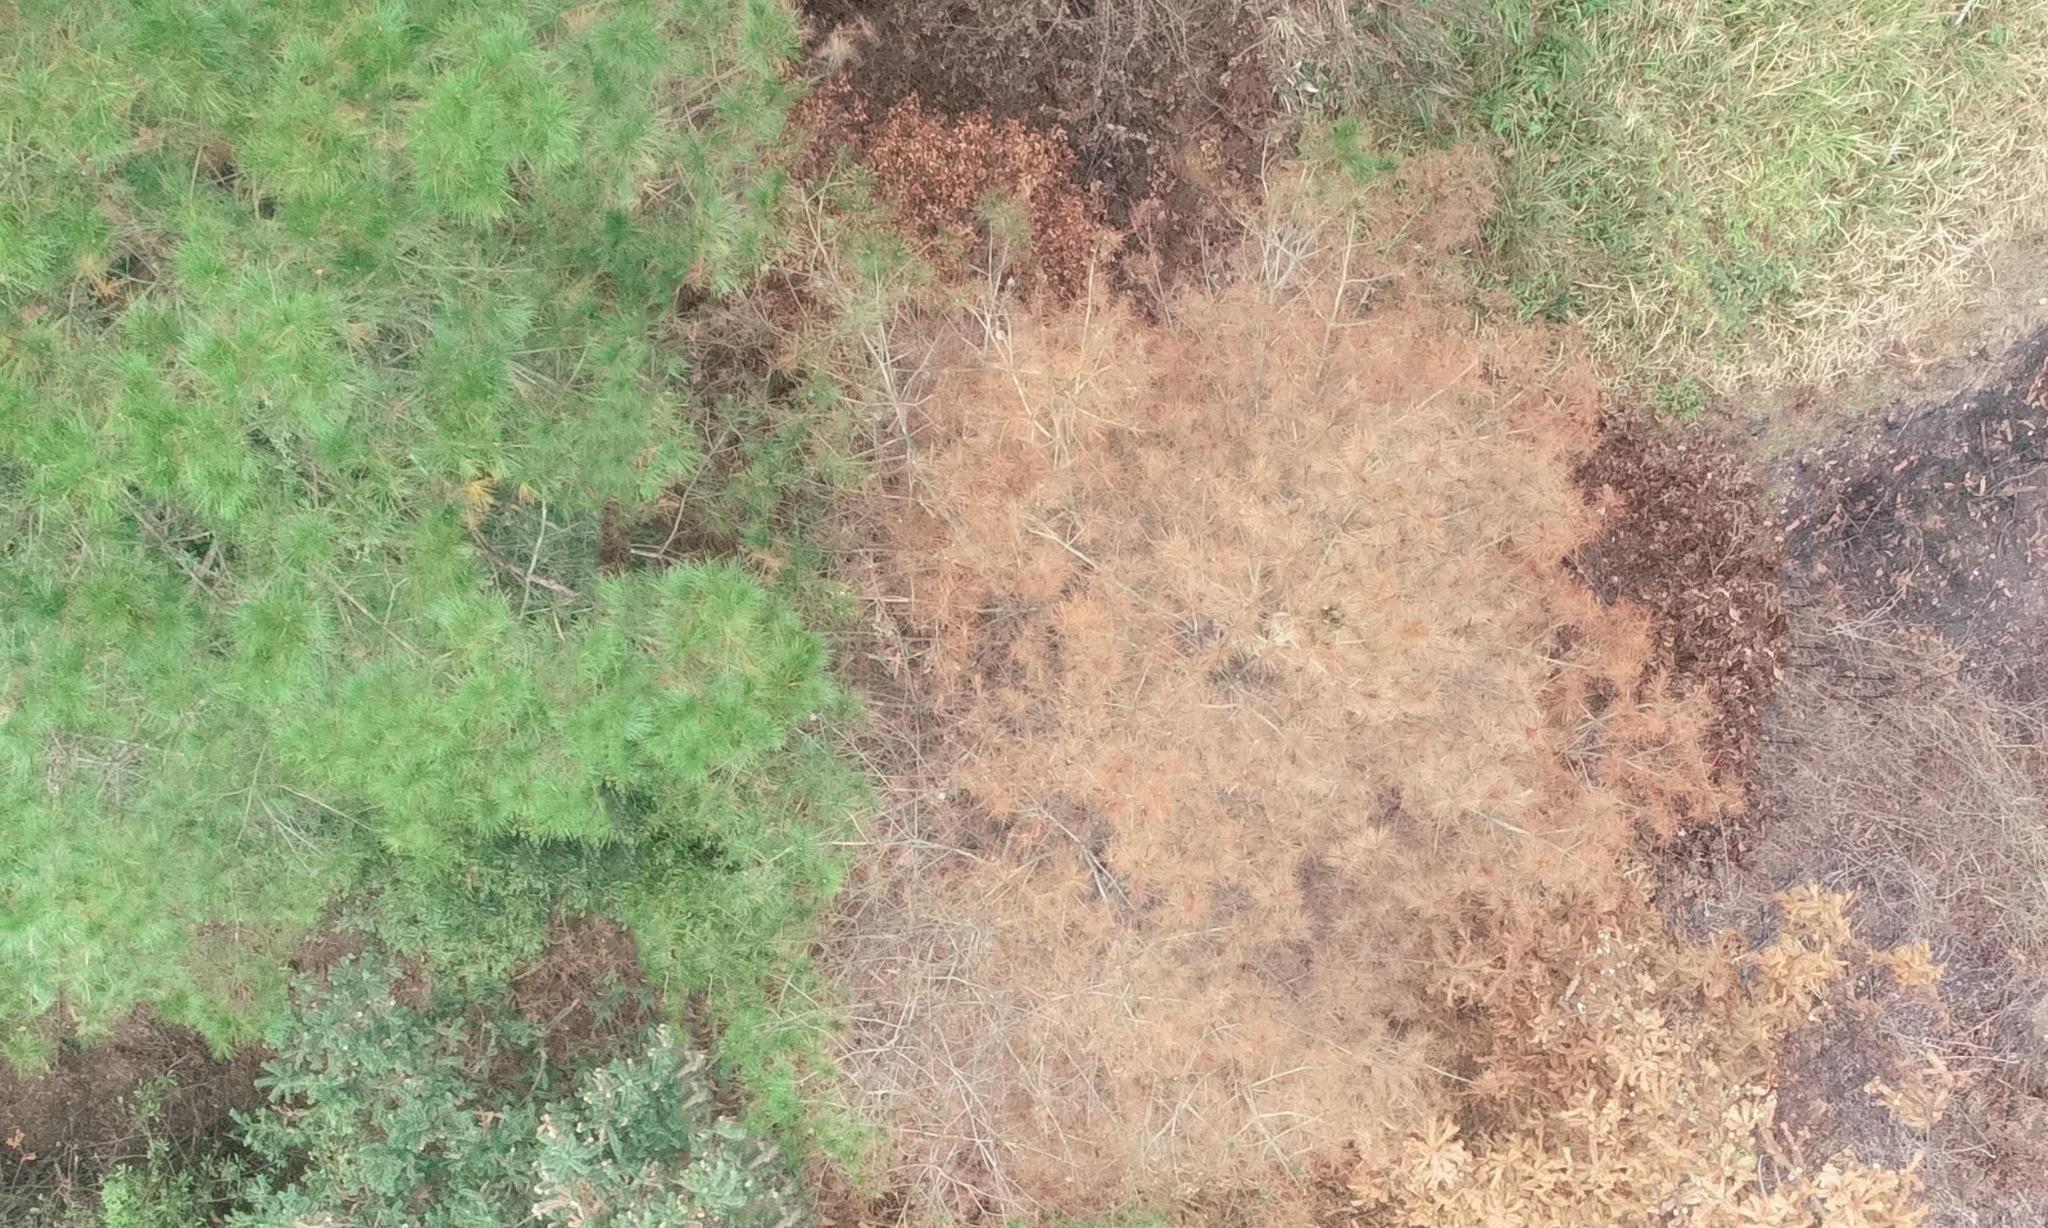heavy: (765, 134, 1921, 1228)
